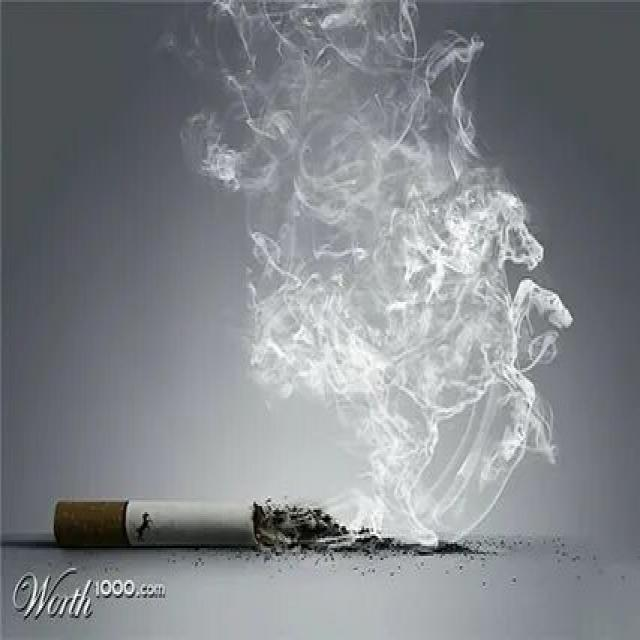cigarette: (46, 496, 273, 554)
